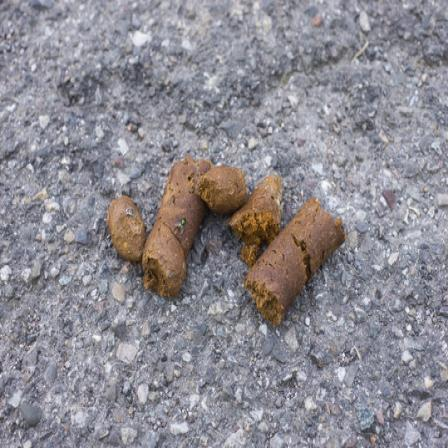dog-poop: (103, 153, 350, 313)
